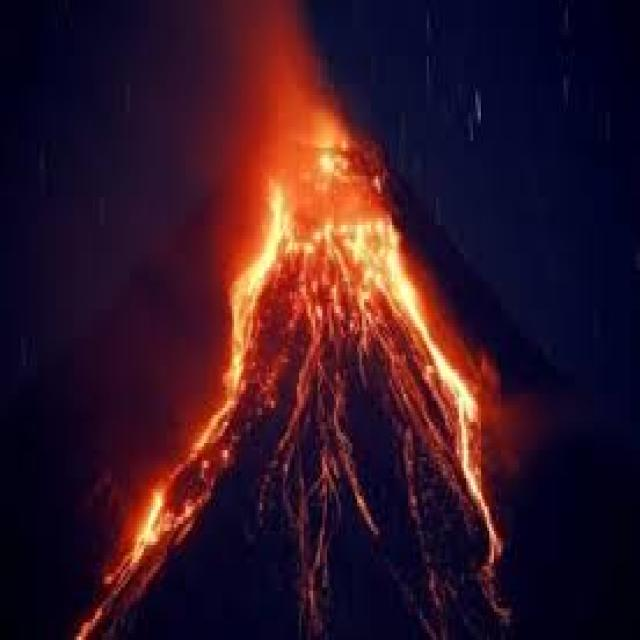explosion: (165, 107, 474, 507)
